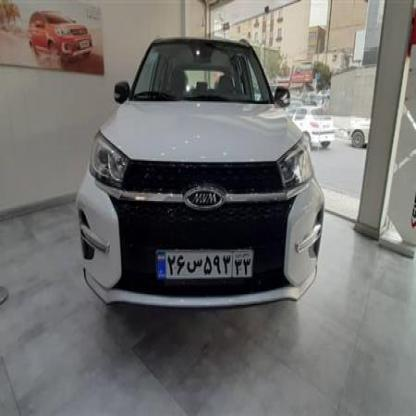Car: (84, 32, 326, 326), (23, 7, 85, 58), (293, 108, 340, 150)
